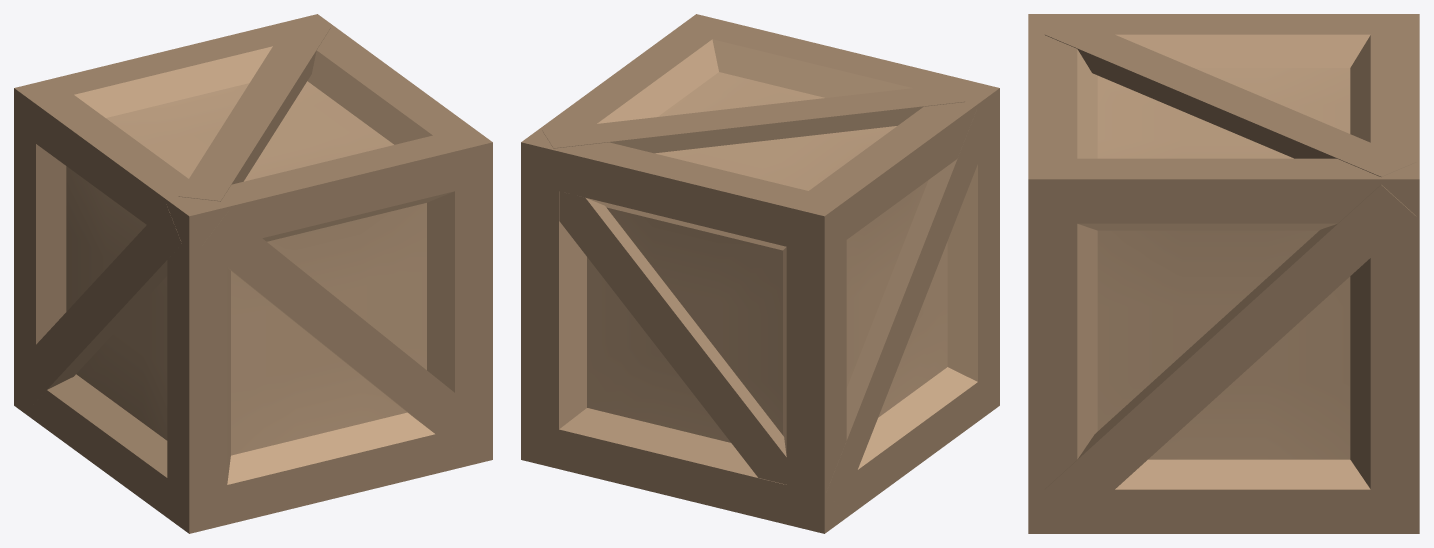
The model's file is wood_box.glb.
3 renders of one model, left to right at view 1: azimuth 30°, elevation 25°; view 2: azimuth 150°, elevation 25°; view 3: azimuth 270°, elevation 25°, orthographic. The views are drawn at different scales.
Visible parts, largest first — view 1: group2_pasted__group1_pasted__pasted__group_pasted__pasted__ (×2); view 2: group2_pasted__group1_pasted__pasted__group_pasted__pasted__ (×2); view 3: group2_pasted__group1_pasted__pasted__group_pasted__pasted__ (×2).
Boxes of the visible parts, box(x1,y1,x2,y2) form: group2_pasted__group1_pasted__pasted__group_pasted__pasted__ (×2): box(14, 14, 492, 533); group2_pasted__group1_pasted__pasted__group_pasted__pasted__ (×2): box(521, 14, 999, 533); group2_pasted__group1_pasted__pasted__group_pasted__pasted__ (×2): box(1028, 14, 1419, 533).
Size of the model in its own units: 2.85 by 2.85 by 2.84.
